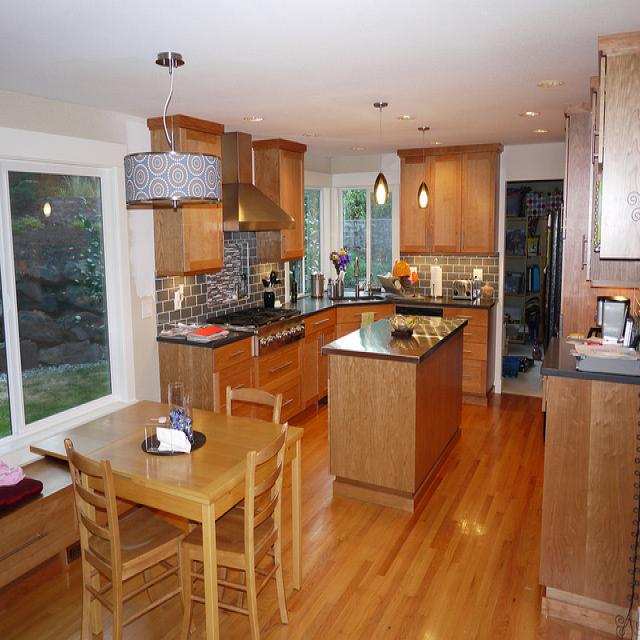chair: (64, 439, 196, 640), (216, 424, 288, 640), (226, 386, 282, 424)
dining table: (29, 399, 304, 640)
